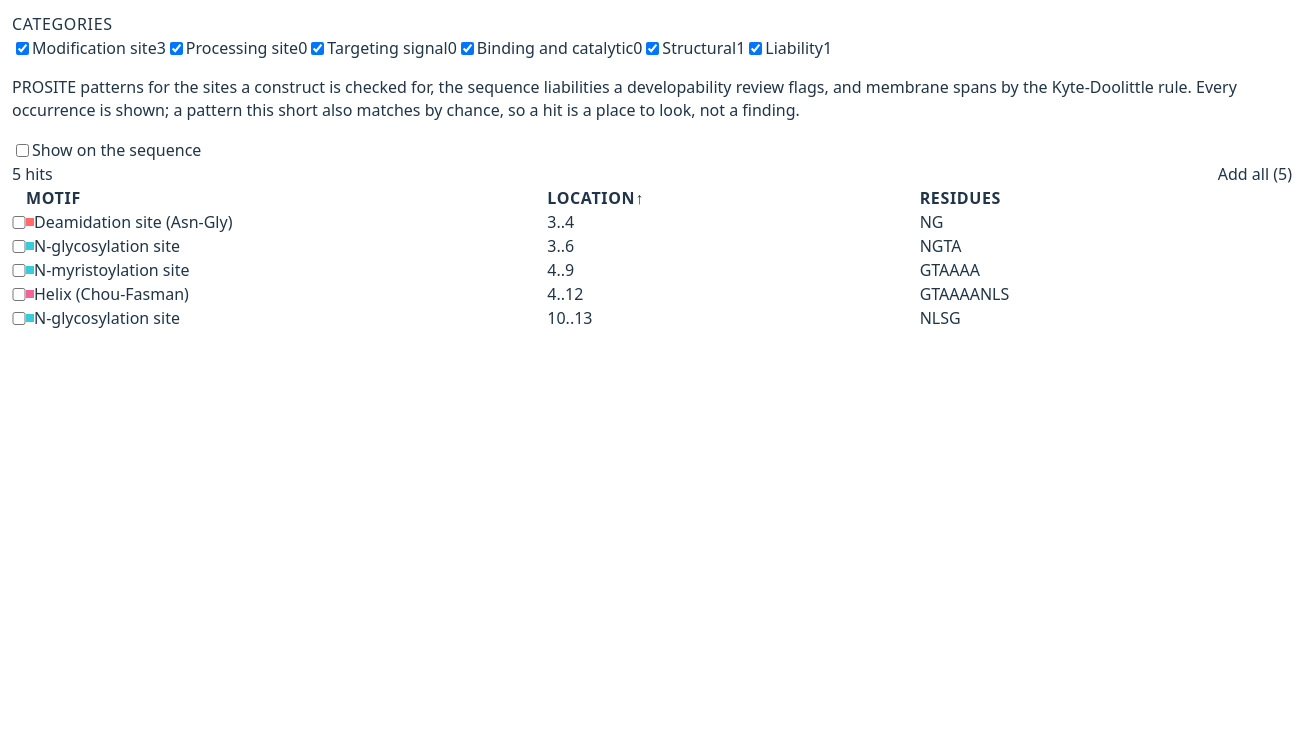
it: Motifs tab › shows the hit clicked, with its pattern, and adds it as a feature
The image size is (1304, 732).
Step 1. Click the option with class "fd-row" showing "N-glycosylation site 3..6 NGTA" → (107, 246), box [12, 235, 962, 257]
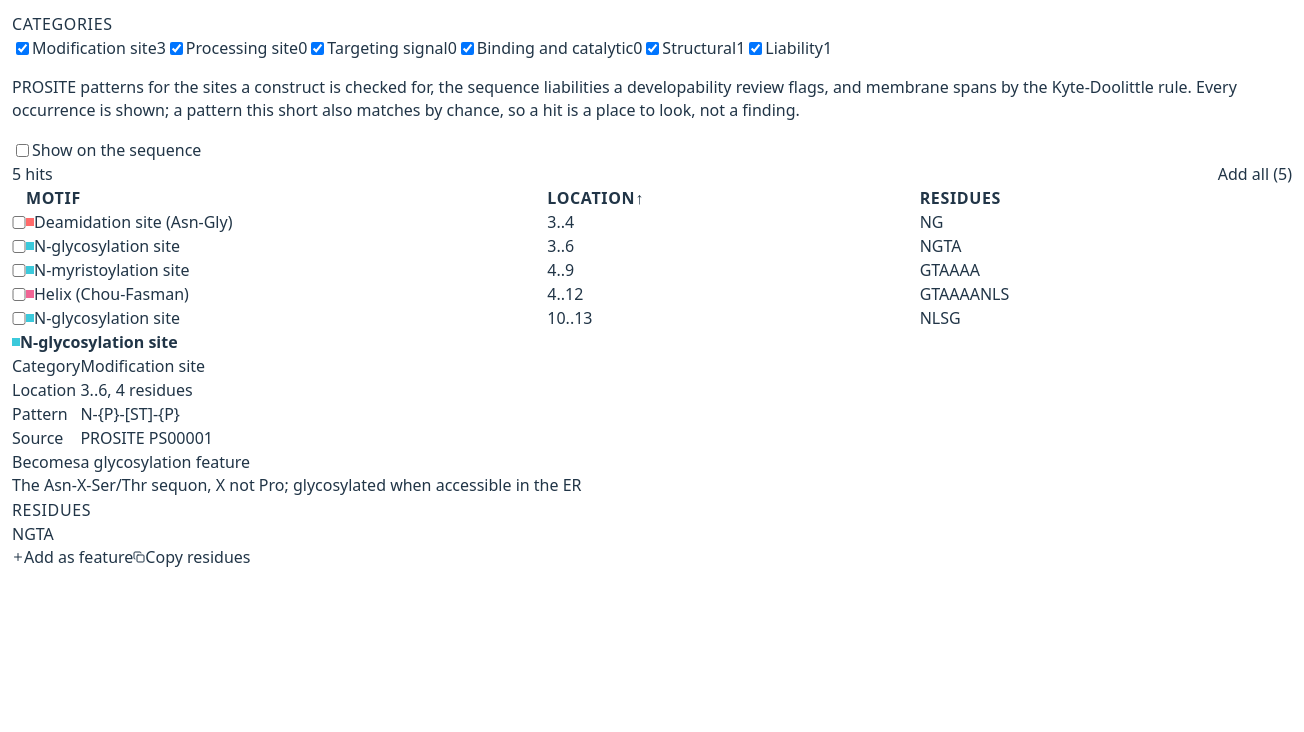
Check: the text "N-{P}-[ST]-{P}" is shown, box [80, 403, 180, 425]
Step 2. Click the button "Add as feature" → (73, 557), box [12, 546, 133, 568]
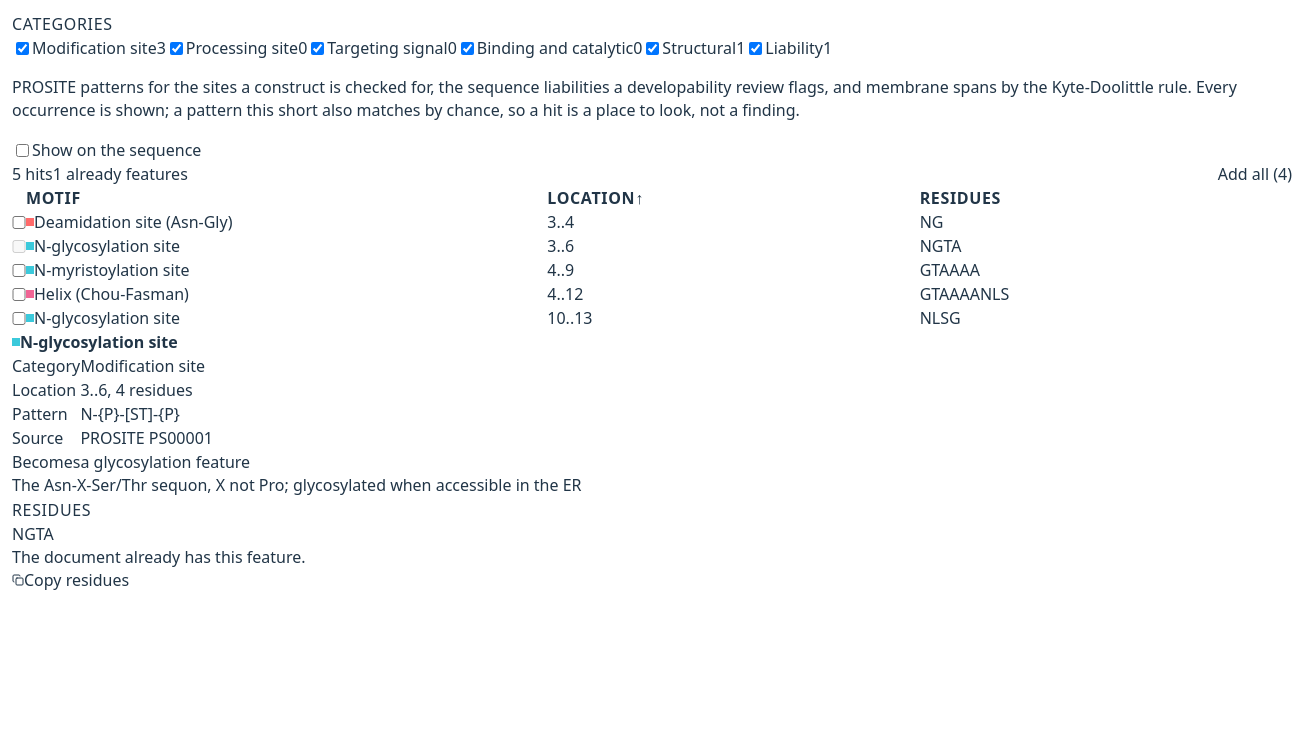
Check: the text "The document already has this feature." is shown, box [12, 546, 306, 568]
